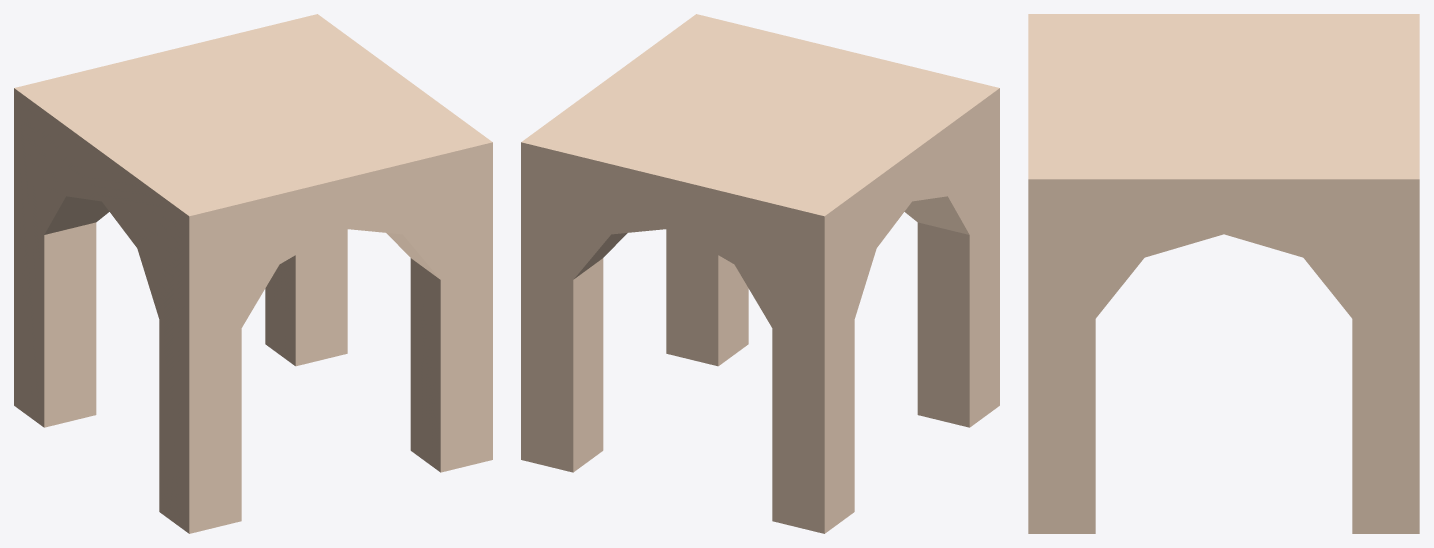
File: Abstract_Castle_Block_1_Unit_Beige_Arch_Pillars_01.fbx
3 views of the same model, side by side, from view 1: azimuth 30°, elevation 25°; view 2: azimuth 150°, elevation 25°; view 3: azimuth 270°, elevation 25° (orthographic). The views are drawn at different scales.
Parts seen in each view (by area): view 1: Abstract_Castle_Block_1_Unit_Beige_Arch_Pillars_01; view 2: Abstract_Castle_Block_1_Unit_Beige_Arch_Pillars_01; view 3: Abstract_Castle_Block_1_Unit_Beige_Arch_Pillars_01.
Boxes of the visible parts, x1=… form: Abstract_Castle_Block_1_Unit_Beige_Arch_Pillars_01: x1=14, y1=14, x2=492, y2=533; Abstract_Castle_Block_1_Unit_Beige_Arch_Pillars_01: x1=521, y1=14, x2=999, y2=533; Abstract_Castle_Block_1_Unit_Beige_Arch_Pillars_01: x1=1028, y1=14, x2=1419, y2=533.
Bounding box in the file's own units: 98.43 × 98.43 × 98.43.
